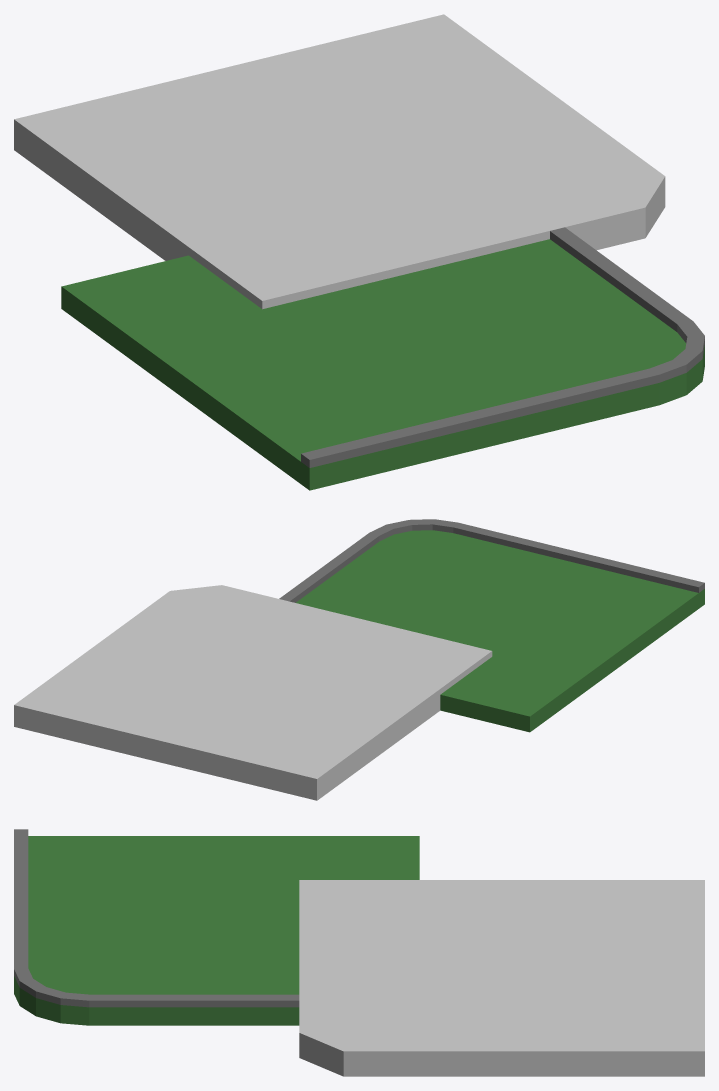
File: SM_Factory_Grass_01.fbx
3 renders of one model, top to bottom at view 1: azimuth 30°, elevation 25°; view 2: azimuth 150°, elevation 25°; view 3: azimuth 270°, elevation 25°, orthographic. The views are drawn at different scales.
Parts seen in each view (by area): view 1: SM_Factory_Grass_01_ConvexHulls, SM_Factory_Grass_01; view 2: SM_Factory_Grass_01_ConvexHulls, SM_Factory_Grass_01; view 3: SM_Factory_Grass_01_ConvexHulls, SM_Factory_Grass_01.
Part boxes in pixels (<box>): SM_Factory_Grass_01_ConvexHulls: <box>14,14,665,309</box>; SM_Factory_Grass_01: <box>61,227,704,490</box>; SM_Factory_Grass_01_ConvexHulls: <box>14,585,492,800</box>; SM_Factory_Grass_01: <box>279,519,704,732</box>; SM_Factory_Grass_01_ConvexHulls: <box>299,880,704,1076</box>; SM_Factory_Grass_01: <box>14,829,419,1025</box>.
Bounding box in the file's own units: 648 × 852 × 34.31.
2 materials, 1 textured.
